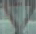Give way: (2, 2, 35, 30)
